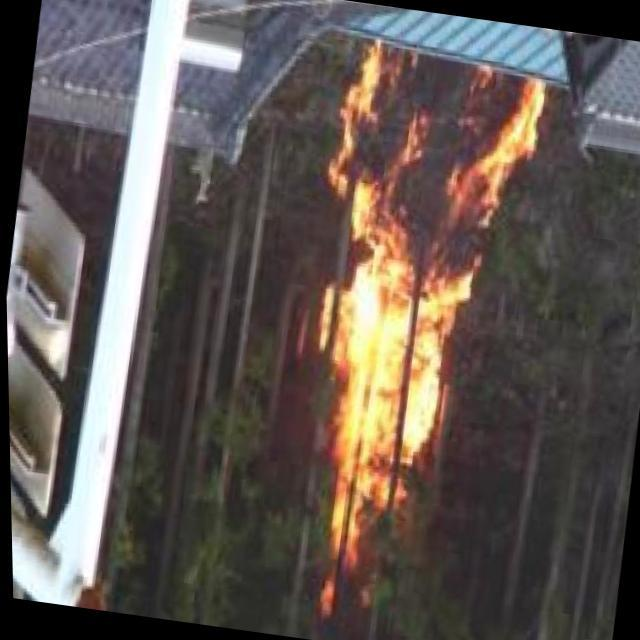fire: (266, 36, 558, 616)
